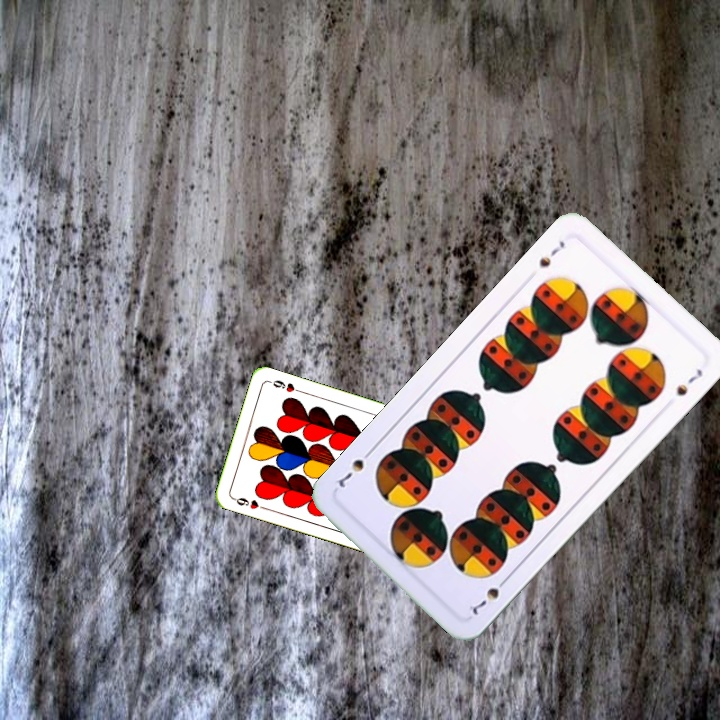H9: (229, 494, 269, 512)
S7: (464, 573, 512, 618), (534, 236, 568, 270)
